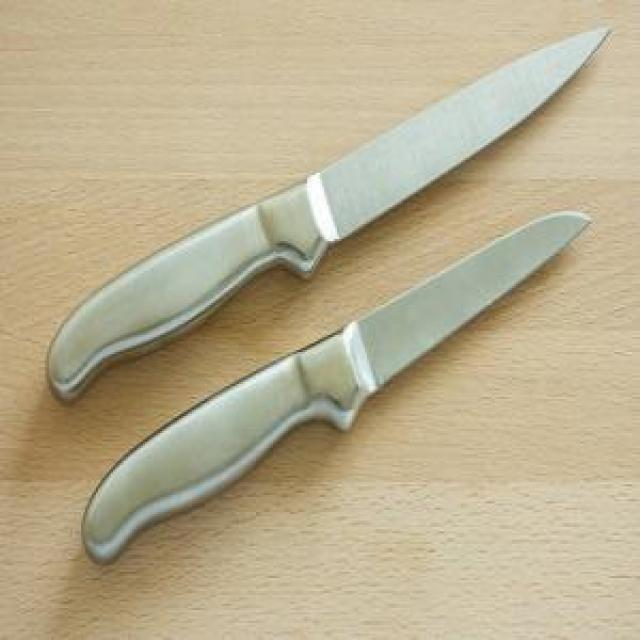knife: (47, 19, 615, 404), (79, 202, 595, 568)
